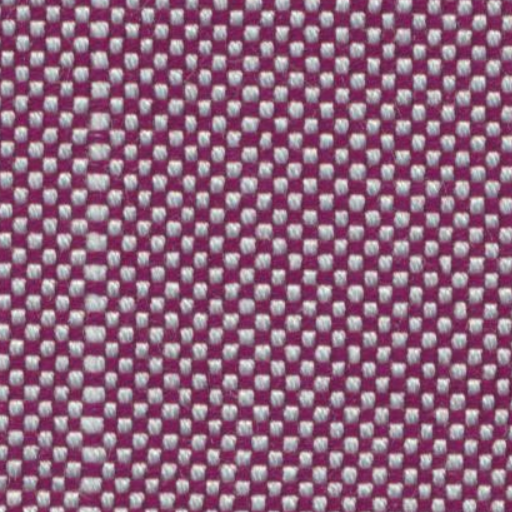TuoSha: (65, 18, 129, 494)
